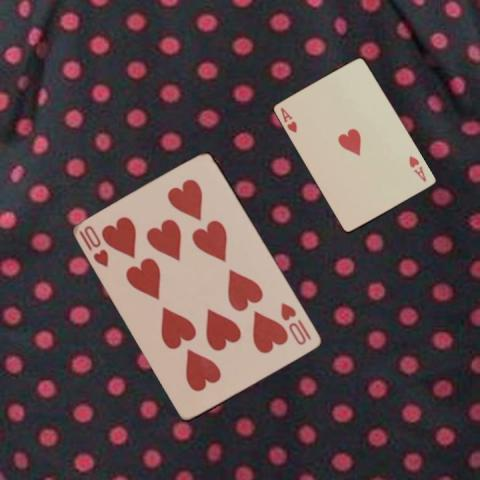10h: (278, 298, 313, 346), (76, 222, 111, 269)
Ah: (406, 153, 428, 183), (278, 104, 299, 135)
